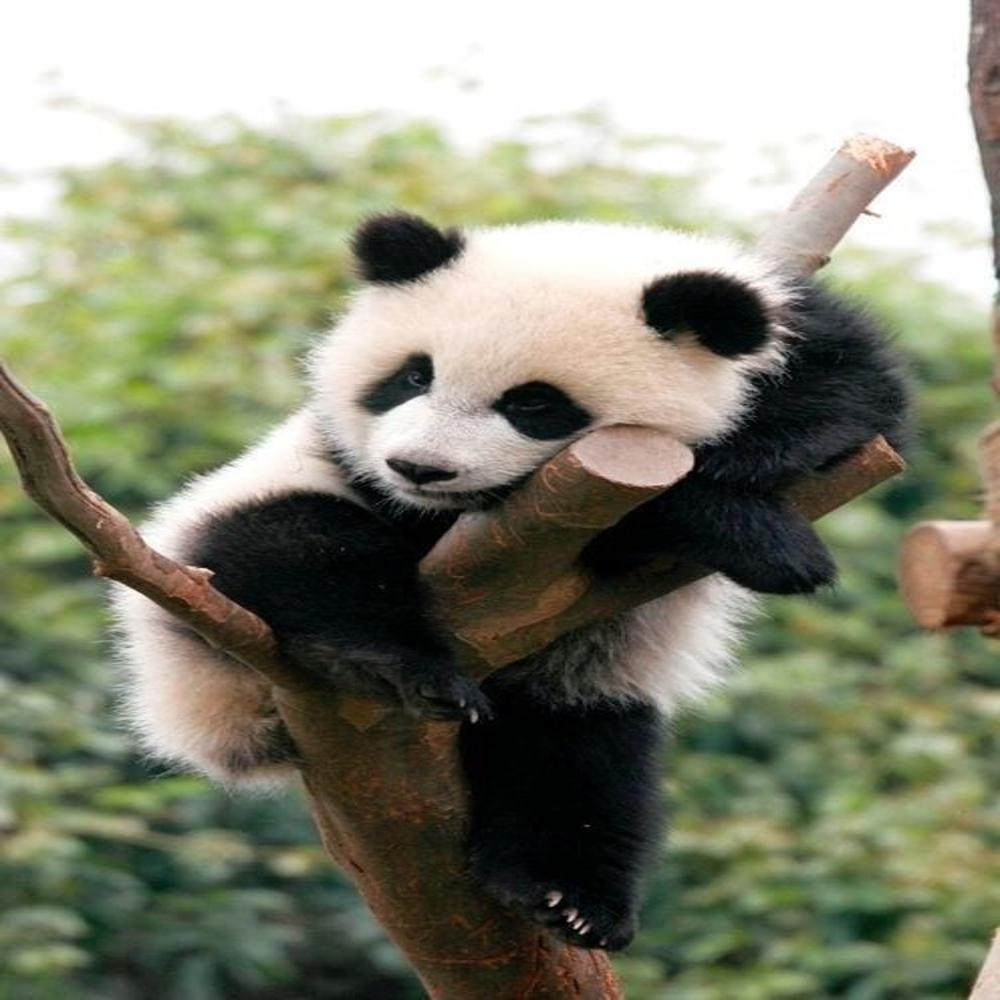panda: (112, 208, 906, 951)
